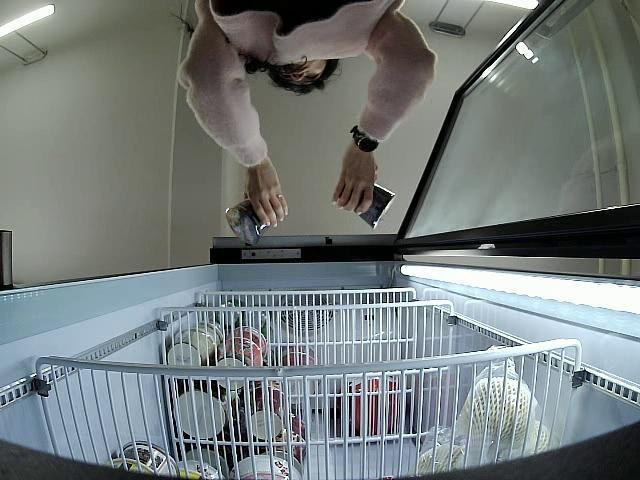08_buldak_S: (334, 180, 395, 229), (225, 195, 272, 248)
